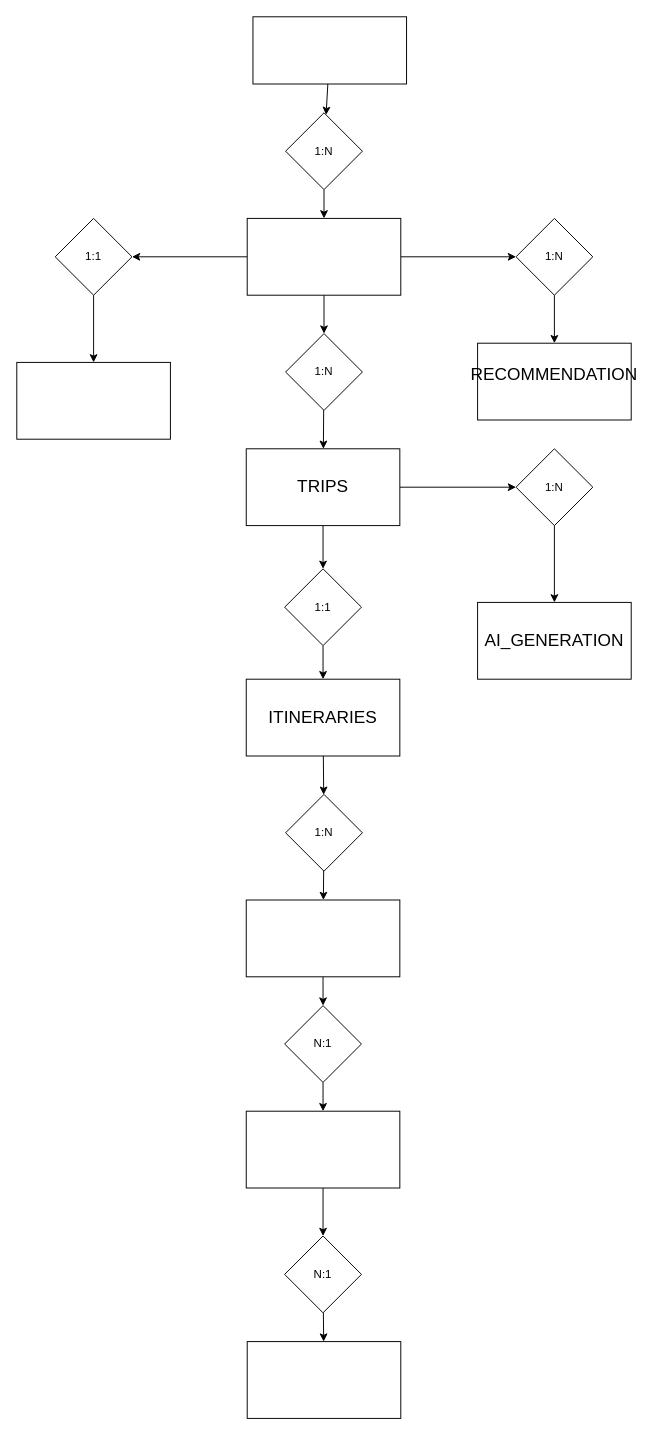
Image size: 655x1435. Some labels were removed from this diagram. Each missing label, with the box of its shape:
ACTIVITIES: (245, 1110, 400, 1188)
DESTINATIONS: (246, 1341, 401, 1418)
ITINERY_ITEMS: (245, 899, 400, 977)
ROLES: (252, 16, 407, 84)
USER PREFERENCES: (16, 361, 170, 439)
USERS: (246, 217, 401, 295)
